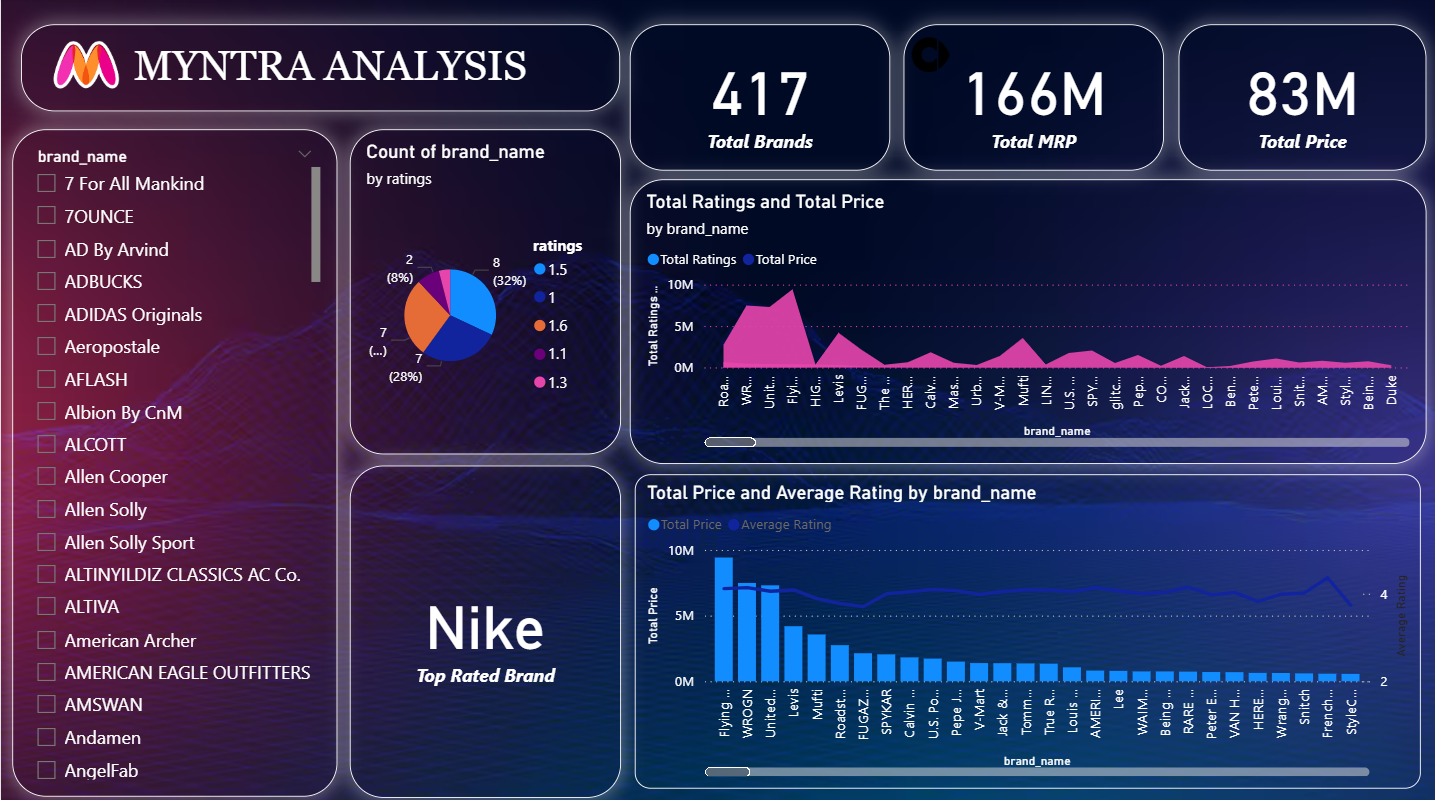

Layout of this report page (visuals, bound fields, positions):
{"tool":"powerbi","page":{"name":"Brand analysis","canvas":[1280,720],"ordinal":1},"visuals":[{"type":"textbox","box":[18.1,22.9,533.2,77.2],"z":0},{"type":"slicer","fields":{"Values":["myntra_dataset_ByScraping.brand_name"]},"box":[9.7,117,289.5,594.8],"z":1000},{"type":"card","fields":{"Values":["myntra_dataset_ByScraping.Total Brands"]},"box":[559.8,22.9,231.6,130.3],"z":2000},{"type":"card","fields":{"Values":["myntra_dataset_ByScraping.Total MRP"]},"box":[804.1,22.9,231.6,130.3],"z":3000},{"type":"card","fields":{"Values":["myntra_dataset_ByScraping.Total Price"]},"box":[1048.4,22.9,220.8,130.3],"z":4000},{"type":"pieChart","fields":{"Y":["CountNonNull(myntra_dataset_ByScraping.brand_name)"],"Category":["myntra_dataset_ByScraping.ratings"]},"box":[310.1,116.6,241.5,289.5],"z":5000},{"type":"areaChart","fields":{"Category":["myntra_dataset_ByScraping.brand_name"],"Y":["myntra_dataset_ByScraping.Total Ratings","myntra_dataset_ByScraping.Total Price"]},"box":[559.8,161.7,709.4,253.4],"z":6000},{"type":"image","box":[0,2.4,154.4,114.6],"z":7000},{"type":"image","box":[804.7,22.9,45.8,53.1],"z":8000},{"type":"lineClusteredColumnComboChart","fields":{"Category":["myntra_dataset_ByScraping.brand_name"],"Y":["myntra_dataset_ByScraping.Total Price"],"Y2":["myntra_dataset_ByScraping.Average Rating"]},"box":[564,424,699.8,279.9],"z":9000},{"type":"card","fields":{"Values":["myntra_dataset_ByScraping.Top Rated Brand"]},"box":[310.1,415.8,241.5,296.4],"z":10000}]}

Visuals, with their boxes in screenshot pixels (x1, y1, x2, y2), scaled from the page's 1280x720 canvas onto the 1435x800 screenshot:
textbox: <bbox>20, 25, 618, 111</bbox>
slicer - myntra_dataset_ByScraping.brand_name: <bbox>11, 130, 335, 791</bbox>
card - myntra_dataset_ByScraping.Total Brands: <bbox>628, 25, 887, 170</bbox>
card - myntra_dataset_ByScraping.Total MRP: <bbox>901, 25, 1161, 170</bbox>
card - myntra_dataset_ByScraping.Total Price: <bbox>1175, 25, 1423, 170</bbox>
pieChart - CountNonNull(myntra_dataset_ByScraping.brand_name) x myntra_dataset_ByScraping.ratings: <bbox>348, 130, 618, 451</bbox>
areaChart - myntra_dataset_ByScraping.brand_name x myntra_dataset_ByScraping.Total Ratings: <bbox>628, 180, 1423, 461</bbox>
image: <bbox>0, 3, 173, 130</bbox>
image: <bbox>902, 25, 953, 84</bbox>
lineClusteredColumnComboChart - myntra_dataset_ByScraping.brand_name x myntra_dataset_ByScraping.Total Price: <bbox>632, 471, 1417, 782</bbox>
card - myntra_dataset_ByScraping.Top Rated Brand: <bbox>348, 462, 618, 791</bbox>
